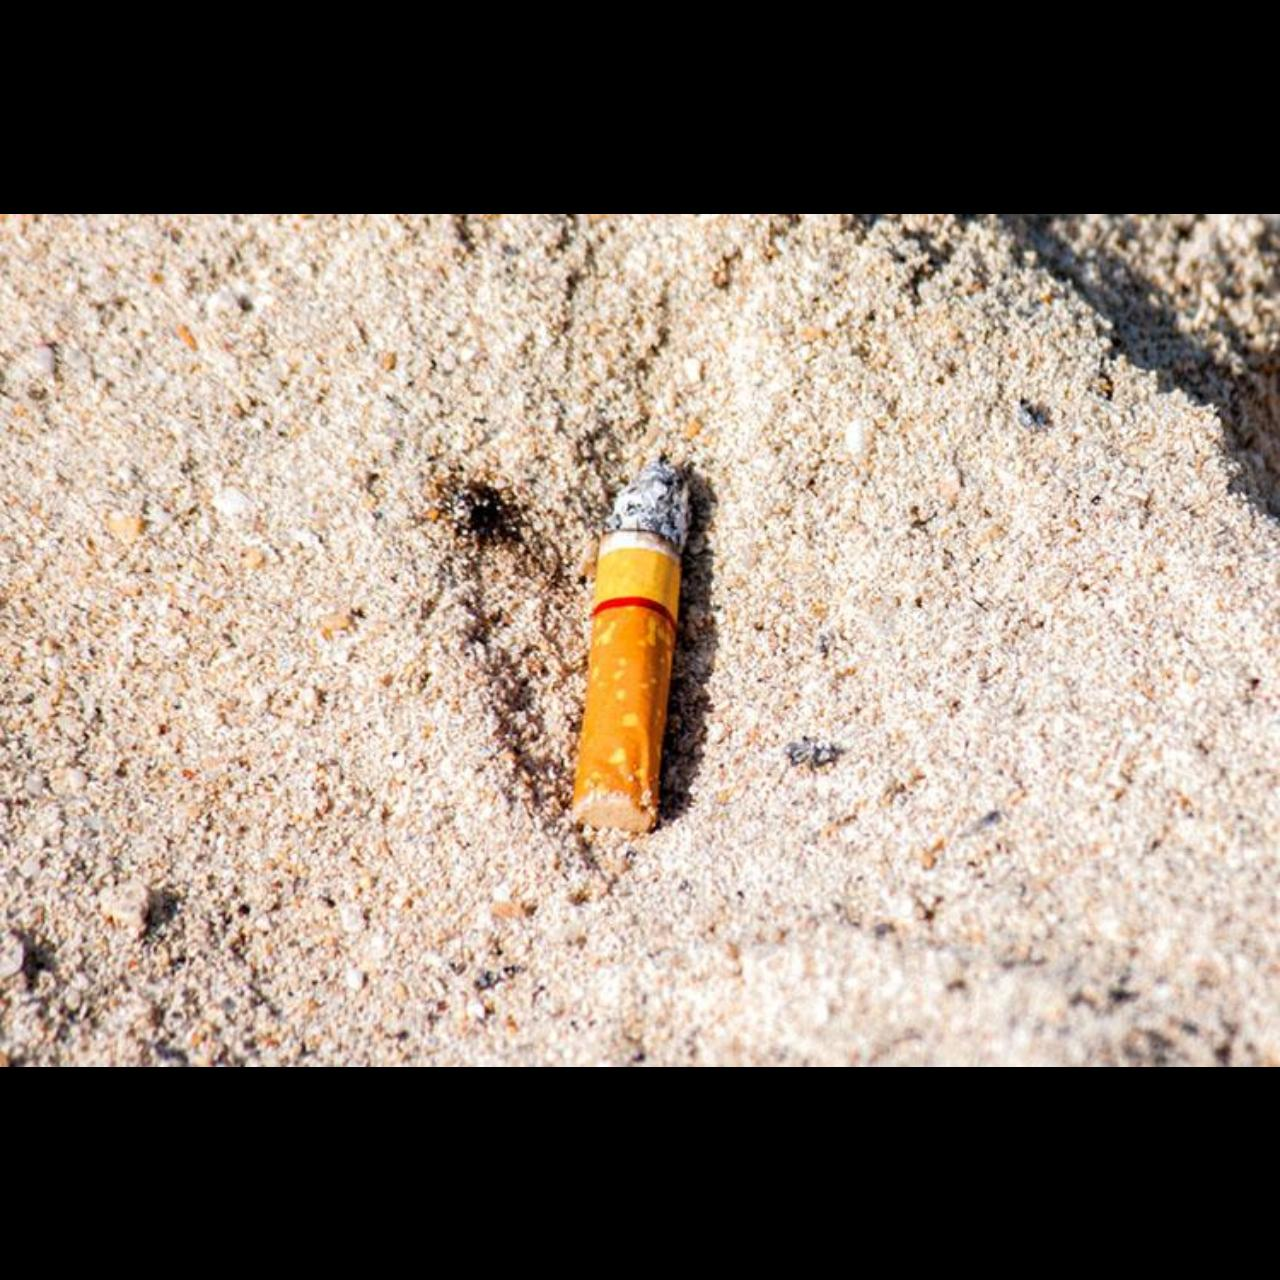cigarettes_butts: (573, 460, 684, 836)
